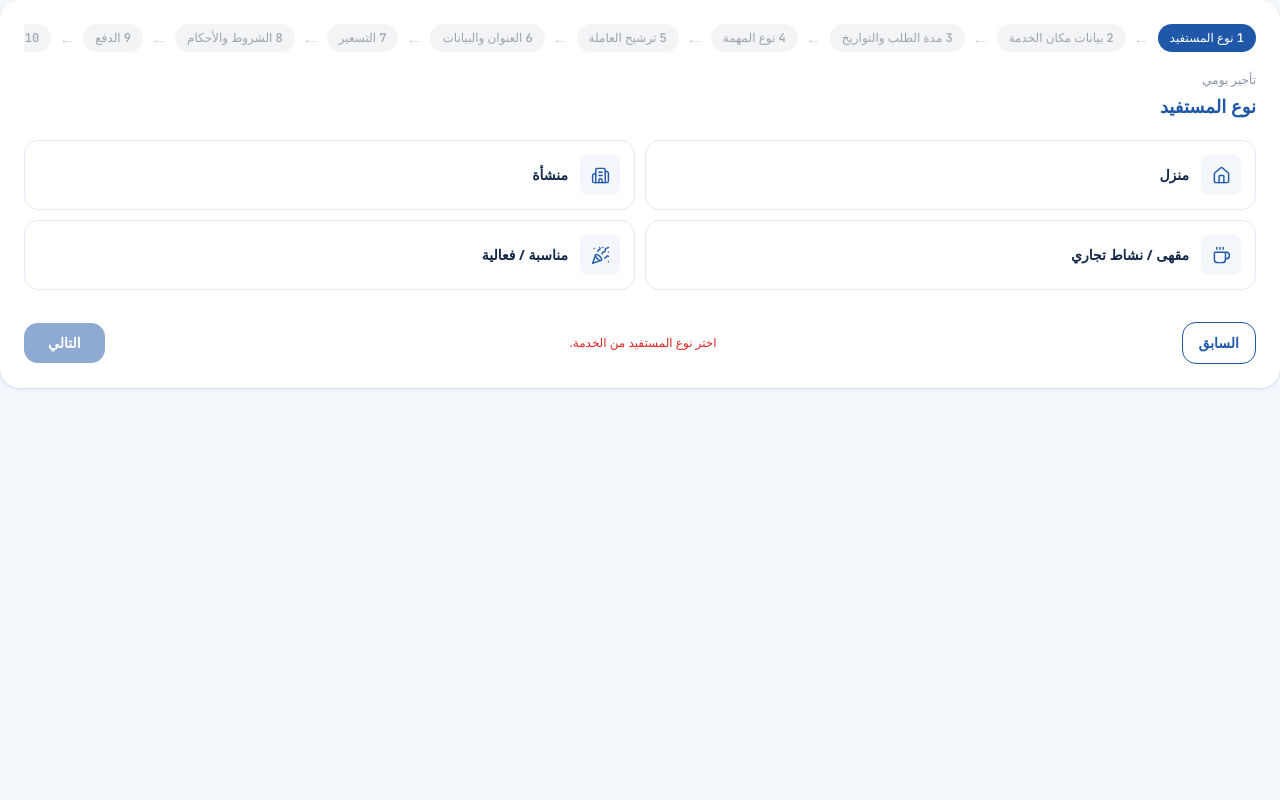
Test case: الحقول الشرطية في المعالج › المقهى / النشاط التجاري: نوع النشاط والفروع وعدد الأشخاص
The width and height of the screenshot is (1280, 800).
Click the button "مقهى / نشاط تجاري" at (1221, 255), box [645,220,1256,290]
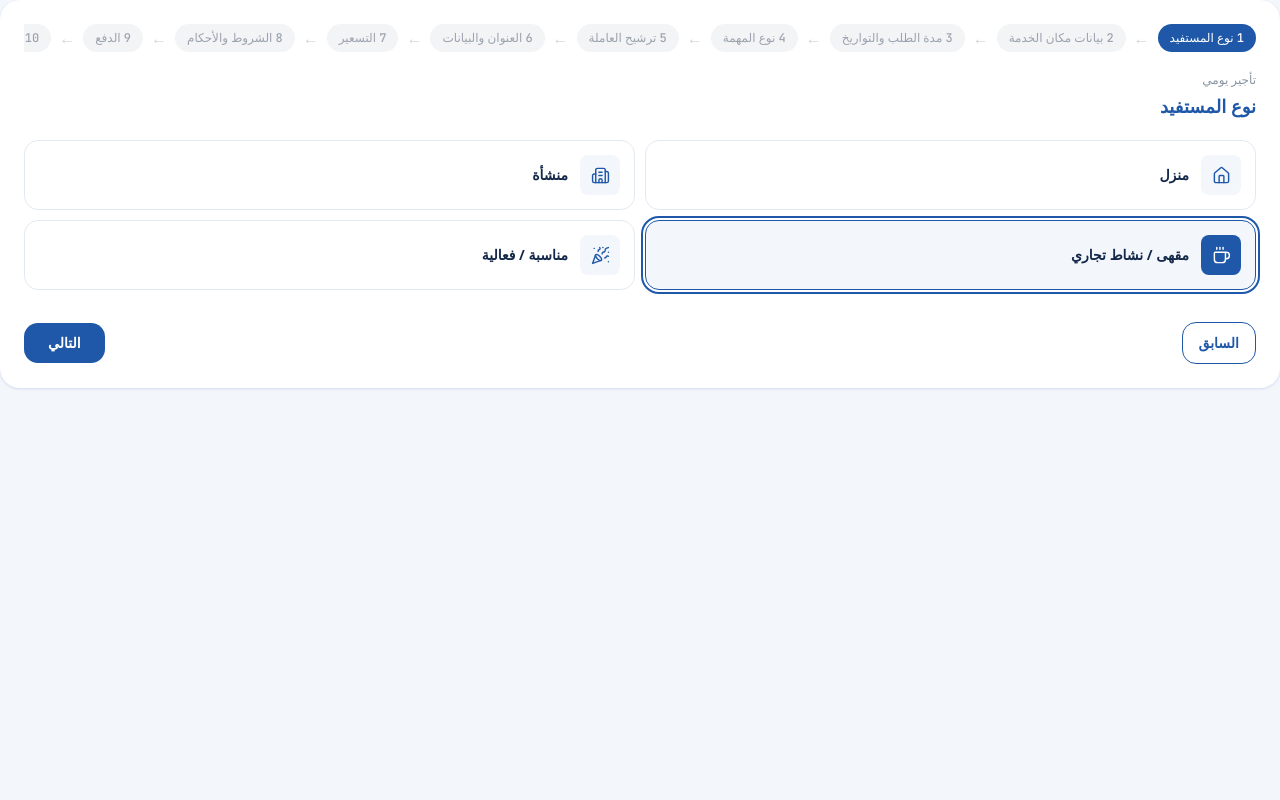
Click the button "التالي" at (64, 343), box [24,323,105,363]
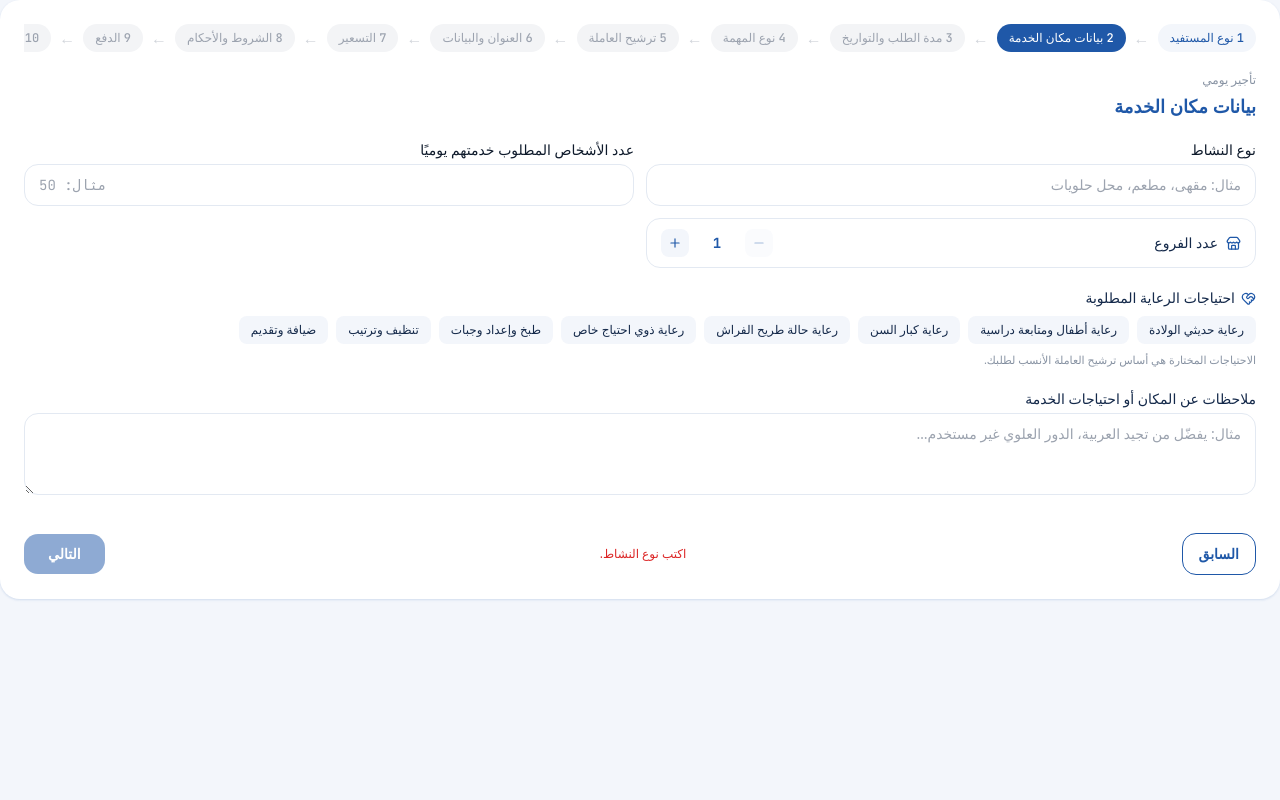
Now the field labelled "نوع النشاط" is shown, box [646,164,1256,206]
Now the text "عدد الفروع" is shown, box [1154,233,1241,253]
Now the number field labelled "عدد الأشخاص المطلوب خدمتهم يوميًا" is shown, box [24,164,634,206]
